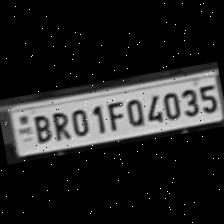0: (65, 102, 90, 138), (158, 87, 182, 121)
1: (86, 101, 108, 134)
3: (176, 84, 200, 118)
4: (140, 88, 163, 124)
5: (194, 79, 220, 114)
B: (28, 110, 53, 144)
F: (101, 96, 126, 132)
Q: (121, 94, 145, 128)
R: (46, 106, 70, 141)
